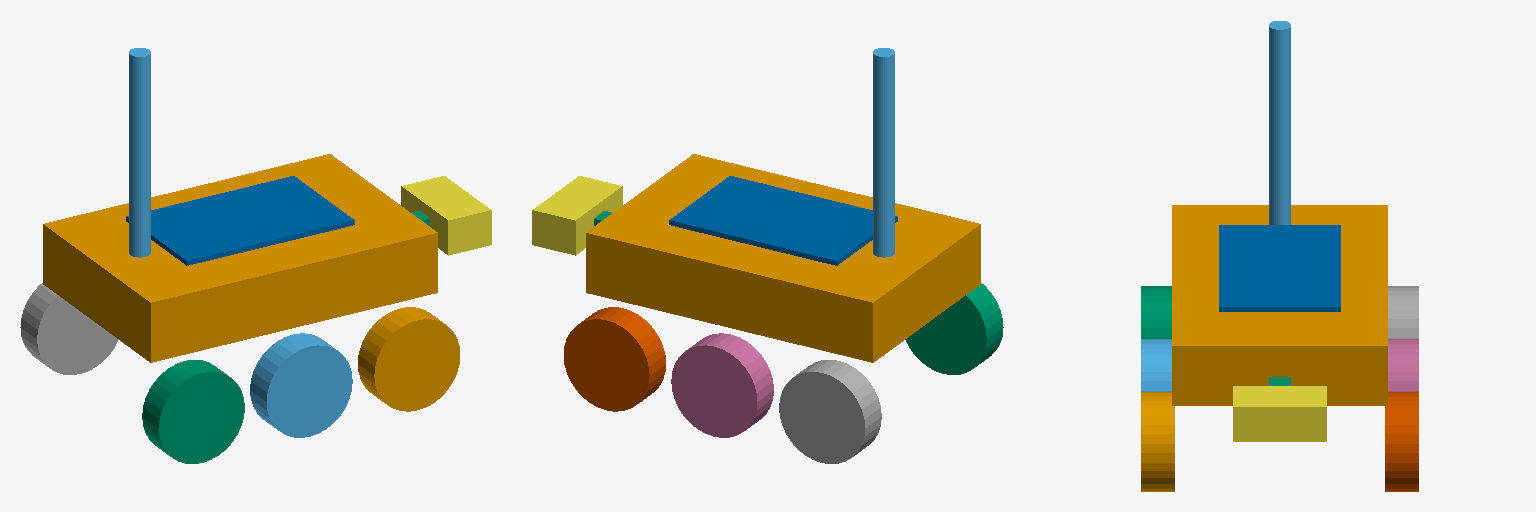
The robot description file, URDF, robot "alam_rover2":
<?xml version="1.0"?>
<robot name="alam_rover2">
  <link name="base_link">
    <visual>
      <origin xyz="0 0 0.33" rpy="0 0 0"/>
      <geometry><box size="1.20 0.78 0.24"/></geometry>
    </visual>
    <collision>
      <origin xyz="0 0 0.33" rpy="0 0 0"/>
      <geometry><box size="1.20 0.78 0.24"/></geometry>
    </collision>
    <inertial>
      <mass value="55.0"/>
      <origin xyz="0 0 0.33" rpy="0 0 0"/>
      <inertia ixx="3.5" ixy="0.0" ixz="0.0" iyy="8.0" iyz="0.0" izz="9.0"/>
    </inertial>
  </link>

  <gazebo reference="base_link">
    <self_collide>false</self_collide>
    <visual>
      <material>
        <ambient>0.6 0.6 0.6 1.0</ambient>
        <diffuse>0.6 0.6 0.6 1.0</diffuse>
        <pbr>
          <metal>
            <albedo_map>file:///root/ws/assets/custom/rover_body_2/textures/Silver/Poliigon_MetalSteelBrushed_7174_BaseColor.jpg</albedo_map>
            
            
            
            
          </metal>
        </pbr>
      </material>
    </visual>
  </gazebo>

  <link name="mast_link">
    <visual>
      <origin xyz="0 0 0.40" rpy="0 0 0"/>
      <geometry><cylinder radius="0.04" length="0.80"/></geometry>
    </visual>
    <collision>
      <origin xyz="0 0 0.40" rpy="0 0 0"/>
      <geometry><cylinder radius="0.04" length="0.80"/></geometry>
    </collision>
    <inertial>
      <mass value="1.5"/>
      <origin xyz="0 0 0.40" rpy="0 0 0"/>
      <inertia ixx="0.05" ixy="0.0" ixz="0.0" iyy="0.05" iyz="0.0" izz="0.005"/>
    </inertial>
  </link>
  <joint name="mast_joint" type="fixed">
    <parent link="base_link"/>
    <child link="mast_link"/>
    <origin xyz="-0.42 0 0.45" rpy="0 0 0"/>
  </joint>
  <gazebo reference="mast_link">
    <visual>
      <material>
        <ambient>0.35 0.35 0.35 1.0</ambient>
        <diffuse>0.35 0.35 0.35 1.0</diffuse>
        <pbr>
          <metal>
            <albedo_map>file:///root/ws/assets/custom/rover_body_2/textures/Plastic/Poliigon_PlasticMoldDryBlast_7495_BaseColor.jpg</albedo_map>
            
            
            
            
          </metal>
        </pbr>
      </material>
    </visual>
  </gazebo>

  <link name="arm_link">
    <visual>
      <origin xyz="0.20 0 0" rpy="0 0 0"/>
      <geometry><box size="0.40 0.08 0.05"/></geometry>
    </visual>
    <collision>
      <origin xyz="0.20 0 0" rpy="0 0 0"/>
      <geometry><box size="0.40 0.08 0.05"/></geometry>
    </collision>
    <inertial>
      <mass value="2.0"/>
      <origin xyz="0.20 0 0" rpy="0 0 0"/>
      <inertia ixx="0.03" ixy="0.0" ixz="0.0" iyy="0.05" iyz="0.0" izz="0.05"/>
    </inertial>
  </link>
  <joint name="arm_joint" type="revolute">
    <parent link="base_link"/>
    <child link="arm_link"/>
    <origin xyz="0.46 0 0.30" rpy="0 0 0"/>
    <axis xyz="0 1 0"/>
    <limit lower="-0.50" upper="0.70" effort="60.0" velocity="0.8"/>
  </joint>

  <link name="bucket_link">
    <visual>
      <origin xyz="0 0 0" rpy="0 0 0"/>
      <geometry><box size="0.18 0.34 0.14"/></geometry>
    </visual>
    <collision>
      <origin xyz="0 0 0" rpy="0 0 0"/>
      <geometry><box size="0.18 0.34 0.14"/></geometry>
    </collision>
    <inertial>
      <mass value="2.5"/>
      <origin xyz="0 0 0" rpy="0 0 0"/>
      <inertia ixx="0.02" ixy="0.0" ixz="0.0" iyy="0.02" iyz="0.0" izz="0.02"/>
    </inertial>
  </link>
  <joint name="bucket_joint" type="fixed">
    <parent link="arm_link"/>
    <child link="bucket_link"/>
    <origin xyz="0.40 0 0" rpy="0 0 0"/>
  </joint>
  <gazebo reference="bucket_link">
    <visual>
      <material>
        <ambient>0.55 0.45 0.10 1.0</ambient>
        <diffuse>0.55 0.45 0.10 1.0</diffuse>
        <pbr>
          <metal>
            <albedo_map>file:///root/ws/assets/custom/rover_body_2/textures/Gold/Poliigon_MetalGoldPaint_7253_BaseColor.jpg</albedo_map>
            
            
            
            
          </metal>
        </pbr>
      </material>
    </visual>
  </gazebo>

  <link name="solar_panel_link">
    <visual>
      <origin xyz="0 0 0" rpy="0 0 0"/>
      <geometry><box size="0.70 0.44 0.02"/></geometry>
    </visual>
    <collision>
      <origin xyz="0 0 0" rpy="0 0 0"/>
      <geometry><box size="0.70 0.44 0.02"/></geometry>
    </collision>
    <inertial>
      <mass value="0.8"/>
      <origin xyz="0 0 0" rpy="0 0 0"/>
      <inertia ixx="0.01" ixy="0.0" ixz="0.0" iyy="0.02" iyz="0.0" izz="0.02"/>
    </inertial>
  </link>
  <joint name="solar_panel_joint" type="fixed">
    <parent link="base_link"/>
    <child link="solar_panel_link"/>
    <origin xyz="0 0 0.48" rpy="0 0 0"/>
  </joint>
  <gazebo reference="solar_panel_link">
    <visual>
      <material>
        <ambient>0.20 0.20 0.25 1.0</ambient>
        <diffuse>0.20 0.20 0.25 1.0</diffuse>
        <pbr>
          <metal>
            <albedo_map>file:///root/ws/assets/custom/rover_body_2/textures/Slate/Poliigon_SlateFloorTile_7657_BaseColor.jpg</albedo_map>
            
            
            
            
          </metal>
        </pbr>
      </material>
    </visual>
  </gazebo>

  <link name="front_left_wheel">
    <visual><origin xyz="0 0 0" rpy="1.5708 0 0"/><geometry><cylinder radius="0.18" length="0.12"/></geometry></visual>
    <collision><origin xyz="0 0 0" rpy="1.5708 0 0"/><geometry><cylinder radius="0.18" length="0.12"/></geometry></collision>
    <inertial><mass value="4.0"/><origin xyz="0 0 0" rpy="1.5708 0 0"/><inertia ixx="0.04" ixy="0.0" ixz="0.0" iyy="0.04" iyz="0.0" izz="0.04"/></inertial>
  </link>
  <joint name="front_left_wheel_joint" type="continuous"><parent link="base_link"/><child link="front_left_wheel"/><origin xyz="0.45 0.44 0.0" rpy="0 0 0"/><axis xyz="0 1 0"/></joint>
  <gazebo reference="front_left_wheel"><mu1>1.10</mu1><mu2>0.95</mu2><self_collide>false</self_collide><visual><material><ambient>0.18 0.18 0.18 1.0</ambient><diffuse>0.18 0.18 0.18 1.0</diffuse><pbr><metal><albedo_map>file:///root/ws/assets/custom/rover_body_2/textures/Ceramic/TilesCeramicHerringbone002_COL_2K.jpg</albedo_map></metal></pbr></material></visual></gazebo>

  <link name="mid_left_wheel">
    <visual><origin xyz="0 0 0" rpy="1.5708 0 0"/><geometry><cylinder radius="0.18" length="0.12"/></geometry></visual>
    <collision><origin xyz="0 0 0" rpy="1.5708 0 0"/><geometry><cylinder radius="0.18" length="0.12"/></geometry></collision>
    <inertial><mass value="4.0"/><origin xyz="0 0 0" rpy="1.5708 0 0"/><inertia ixx="0.04" ixy="0.0" ixz="0.0" iyy="0.04" iyz="0.0" izz="0.04"/></inertial>
  </link>
  <joint name="mid_left_wheel_joint" type="continuous"><parent link="base_link"/><child link="mid_left_wheel"/><origin xyz="0.0 0.44 0.0" rpy="0 0 0"/><axis xyz="0 1 0"/></joint>
  <gazebo reference="mid_left_wheel"><mu1>1.10</mu1><mu2>0.95</mu2><self_collide>false</self_collide><visual><material><ambient>0.18 0.18 0.18 1.0</ambient><diffuse>0.18 0.18 0.18 1.0</diffuse><pbr><metal><albedo_map>file:///root/ws/assets/custom/rover_body_2/textures/Ceramic/TilesCeramicHerringbone002_COL_2K.jpg</albedo_map></metal></pbr></material></visual></gazebo>

  <link name="rear_left_wheel">
    <visual><origin xyz="0 0 0" rpy="1.5708 0 0"/><geometry><cylinder radius="0.18" length="0.12"/></geometry></visual>
    <collision><origin xyz="0 0 0" rpy="1.5708 0 0"/><geometry><cylinder radius="0.18" length="0.12"/></geometry></collision>
    <inertial><mass value="4.0"/><origin xyz="0 0 0" rpy="1.5708 0 0"/><inertia ixx="0.04" ixy="0.0" ixz="0.0" iyy="0.04" iyz="0.0" izz="0.04"/></inertial>
  </link>
  <joint name="rear_left_wheel_joint" type="continuous"><parent link="base_link"/><child link="rear_left_wheel"/><origin xyz="-0.45 0.44 0.0" rpy="0 0 0"/><axis xyz="0 1 0"/></joint>
  <gazebo reference="rear_left_wheel"><mu1>1.10</mu1><mu2>0.95</mu2><self_collide>false</self_collide><visual><material><ambient>0.18 0.18 0.18 1.0</ambient><diffuse>0.18 0.18 0.18 1.0</diffuse><pbr><metal><albedo_map>file:///root/ws/assets/custom/rover_body_2/textures/Ceramic/TilesCeramicHerringbone002_COL_2K.jpg</albedo_map></metal></pbr></material></visual></gazebo>

  <link name="front_right_wheel">
    <visual><origin xyz="0 0 0" rpy="1.5708 0 0"/><geometry><cylinder radius="0.18" length="0.12"/></geometry></visual>
    <collision><origin xyz="0 0 0" rpy="1.5708 0 0"/><geometry><cylinder radius="0.18" length="0.12"/></geometry></collision>
    <inertial><mass value="4.0"/><origin xyz="0 0 0" rpy="1.5708 0 0"/><inertia ixx="0.04" ixy="0.0" ixz="0.0" iyy="0.04" iyz="0.0" izz="0.04"/></inertial>
  </link>
  <joint name="front_right_wheel_joint" type="continuous"><parent link="base_link"/><child link="front_right_wheel"/><origin xyz="0.45 -0.44 0.0" rpy="0 0 0"/><axis xyz="0 1 0"/></joint>
  <gazebo reference="front_right_wheel"><mu1>1.10</mu1><mu2>0.95</mu2><self_collide>false</self_collide><visual><material><ambient>0.18 0.18 0.18 1.0</ambient><diffuse>0.18 0.18 0.18 1.0</diffuse><pbr><metal><albedo_map>file:///root/ws/assets/custom/rover_body_2/textures/Ceramic/TilesCeramicHerringbone002_COL_2K.jpg</albedo_map></metal></pbr></material></visual></gazebo>

  <link name="mid_right_wheel">
    <visual><origin xyz="0 0 0" rpy="1.5708 0 0"/><geometry><cylinder radius="0.18" length="0.12"/></geometry></visual>
    <collision><origin xyz="0 0 0" rpy="1.5708 0 0"/><geometry><cylinder radius="0.18" length="0.12"/></geometry></collision>
    <inertial><mass value="4.0"/><origin xyz="0 0 0" rpy="1.5708 0 0"/><inertia ixx="0.04" ixy="0.0" ixz="0.0" iyy="0.04" iyz="0.0" izz="0.04"/></inertial>
  </link>
  <joint name="mid_right_wheel_joint" type="continuous"><parent link="base_link"/><child link="mid_right_wheel"/><origin xyz="0.0 -0.44 0.0" rpy="0 0 0"/><axis xyz="0 1 0"/></joint>
  <gazebo reference="mid_right_wheel"><mu1>1.10</mu1><mu2>0.95</mu2><self_collide>false</self_collide><visual><material><ambient>0.18 0.18 0.18 1.0</ambient><diffuse>0.18 0.18 0.18 1.0</diffuse><pbr><metal><albedo_map>file:///root/ws/assets/custom/rover_body_2/textures/Ceramic/TilesCeramicHerringbone002_COL_2K.jpg</albedo_map></metal></pbr></material></visual></gazebo>

  <link name="rear_right_wheel">
    <visual><origin xyz="0 0 0" rpy="1.5708 0 0"/><geometry><cylinder radius="0.18" length="0.12"/></geometry></visual>
    <collision><origin xyz="0 0 0" rpy="1.5708 0 0"/><geometry><cylinder radius="0.18" length="0.12"/></geometry></collision>
    <inertial><mass value="4.0"/><origin xyz="0 0 0" rpy="1.5708 0 0"/><inertia ixx="0.04" ixy="0.0" ixz="0.0" iyy="0.04" iyz="0.0" izz="0.04"/></inertial>
  </link>
  <joint name="rear_right_wheel_joint" type="continuous"><parent link="base_link"/><child link="rear_right_wheel"/><origin xyz="-0.45 -0.44 0.0" rpy="0 0 0"/><axis xyz="0 1 0"/></joint>
  <gazebo reference="rear_right_wheel"><mu1>1.10</mu1><mu2>0.95</mu2><self_collide>false</self_collide><visual><material><ambient>0.18 0.18 0.18 1.0</ambient><diffuse>0.18 0.18 0.18 1.0</diffuse><pbr><metal><albedo_map>file:///root/ws/assets/custom/rover_body_2/textures/Ceramic/TilesCeramicHerringbone002_COL_2K.jpg</albedo_map></metal></pbr></material></visual></gazebo>

  <gazebo>
    <plugin filename="gz-sim-diff-drive-system" name="gz::sim::systems::DiffDrive">
      <left_joint>front_left_wheel_joint</left_joint>
      <left_joint>mid_left_wheel_joint</left_joint>
      <left_joint>rear_left_wheel_joint</left_joint>
      <right_joint>front_right_wheel_joint</right_joint>
      <right_joint>mid_right_wheel_joint</right_joint>
      <right_joint>rear_right_wheel_joint</right_joint>
      <wheel_separation>0.88</wheel_separation>
      <wheel_radius>0.18</wheel_radius>
      <topic>cmd_vel_rover2</topic>
      <odom_topic>odom_rover2</odom_topic>
      <tf_topic>tf_rover2</tf_topic>
      <odom_publish_frequency>30</odom_publish_frequency>
      <frame_id>odom_rover2</frame_id>
      <child_frame_id>base_link</child_frame_id>
    </plugin>
  </gazebo>
</robot>

--- What the picture shows (computed from the rendered views, not written in the file) ---
Views: 3 orthographic renders of the robot side by side, from view 1: azimuth 30°, elevation 25°; view 2: azimuth 150°, elevation 25°; view 3: azimuth 270°, elevation 25°.
Model alam_rover2 with 11 links and 10 joints (1 revolute, 6 continuous, 3 fixed), rooted at base_link, posed every joint at zero.
Visible links, largest first — view 1: base_link, solar_panel_link, rear_right_wheel, front_right_wheel, mid_right_wheel, rear_left_wheel, mast_link, bucket_link; view 2: base_link, solar_panel_link, rear_left_wheel, front_left_wheel, mid_left_wheel, rear_right_wheel, mast_link, bucket_link; view 3: base_link, solar_panel_link, bucket_link, mast_link, front_left_wheel, front_right_wheel, mid_left_wheel, rear_left_wheel, mid_right_wheel, rear_right_wheel.
Boxes of the visible links, <box> form: base_link: <box>43,154,437,362</box>; solar_panel_link: <box>126,176,354,265</box>; rear_right_wheel: <box>142,360,244,463</box>; front_right_wheel: <box>358,307,459,411</box>; mid_right_wheel: <box>250,333,352,437</box>; rear_left_wheel: <box>20,283,118,374</box>; mast_link: <box>129,48,150,257</box>; bucket_link: <box>401,176,491,255</box>; base_link: <box>586,154,980,362</box>; solar_panel_link: <box>669,176,897,265</box>; rear_left_wheel: <box>779,360,881,463</box>; front_left_wheel: <box>564,307,665,411</box>; mid_left_wheel: <box>671,333,773,437</box>; rear_right_wheel: <box>905,283,1003,374</box>; mast_link: <box>873,48,894,257</box>; bucket_link: <box>532,176,622,255</box>; base_link: <box>1172,205,1387,405</box>; solar_panel_link: <box>1219,225,1340,311</box>; bucket_link: <box>1233,386,1326,441</box>; mast_link: <box>1269,21,1290,224</box>; front_left_wheel: <box>1385,392,1418,491</box>; front_right_wheel: <box>1141,392,1174,491</box>; mid_left_wheel: <box>1388,339,1418,391</box>; rear_left_wheel: <box>1388,286,1418,338</box>; mid_right_wheel: <box>1141,339,1171,391</box>; rear_right_wheel: <box>1141,286,1171,338</box>.
Size in the robot's own frame: 1.58 by 1 by 1.43 metres.
Geometry: primitives only (box / cylinder / sphere), no mesh files.
